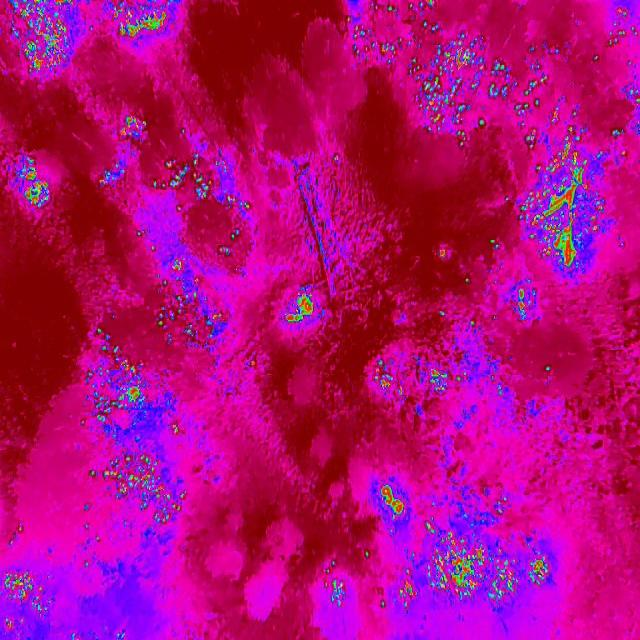fire: (515, 29, 640, 276), (65, 316, 199, 528), (349, 0, 545, 142), (364, 523, 556, 618), (96, 108, 250, 220), (130, 216, 249, 348), (1, 0, 180, 84), (372, 351, 458, 411), (0, 560, 47, 632), (506, 264, 545, 330), (14, 146, 46, 215), (362, 478, 406, 523), (285, 285, 323, 335), (322, 553, 351, 612)
